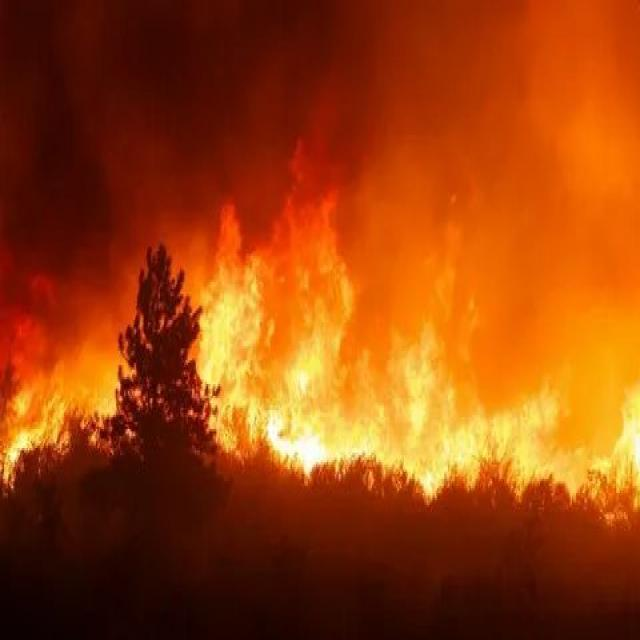Fire: (167, 296, 640, 548)
